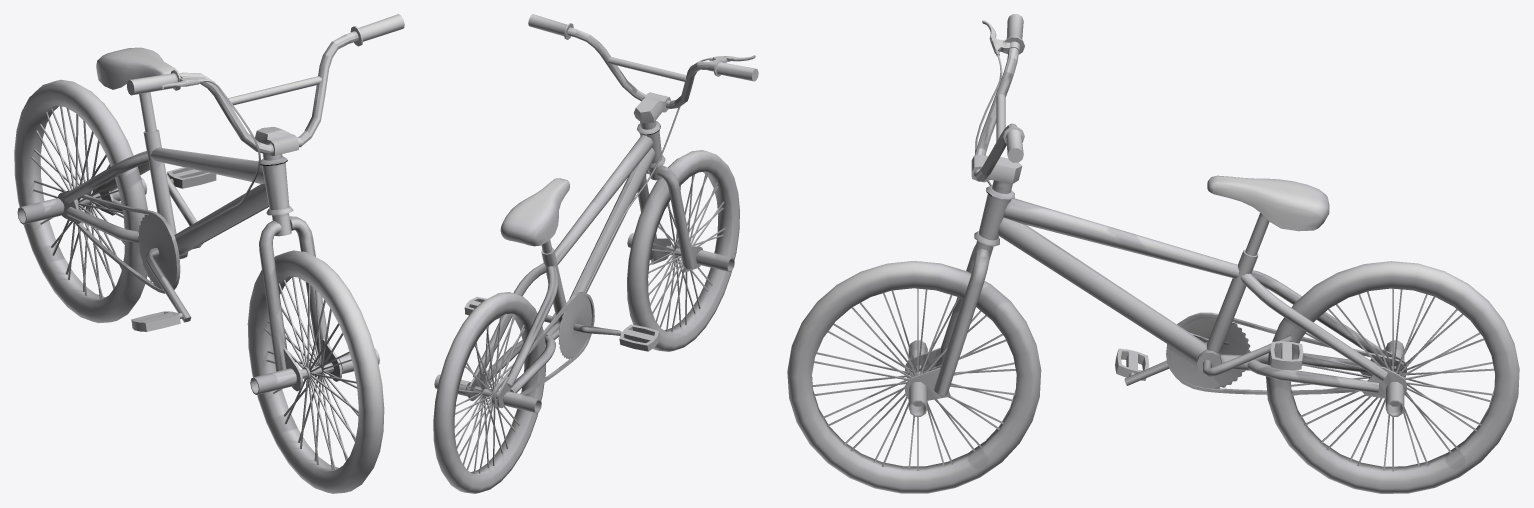
Rendered from bicycle_69cd0639.glb.
3 views of the same model, side by side, from view 1: azimuth 30°, elevation 25°; view 2: azimuth 150°, elevation 25°; view 3: azimuth 270°, elevation 25° (orthographic). The views are drawn at different scales.
Parts seen in each view (by area): view 1: Object001_Object001_mtl_0; view 2: Object001_Object001_mtl_0; view 3: Object001_Object001_mtl_0.
Boxes of the visible parts, x1,y1,x2,y2 form: Object001_Object001_mtl_0: [14, 14, 404, 493]; Object001_Object001_mtl_0: [433, 14, 758, 493]; Object001_Object001_mtl_0: [787, 14, 1519, 493].
Size of the model in its own units: 32.96 by 46.76 by 75.29.
1 material, 1 textured.
